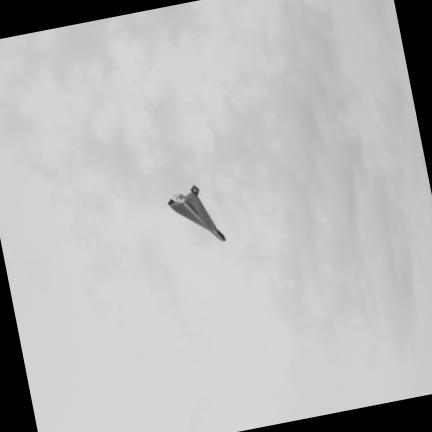Shahed: (169, 186, 225, 239)
